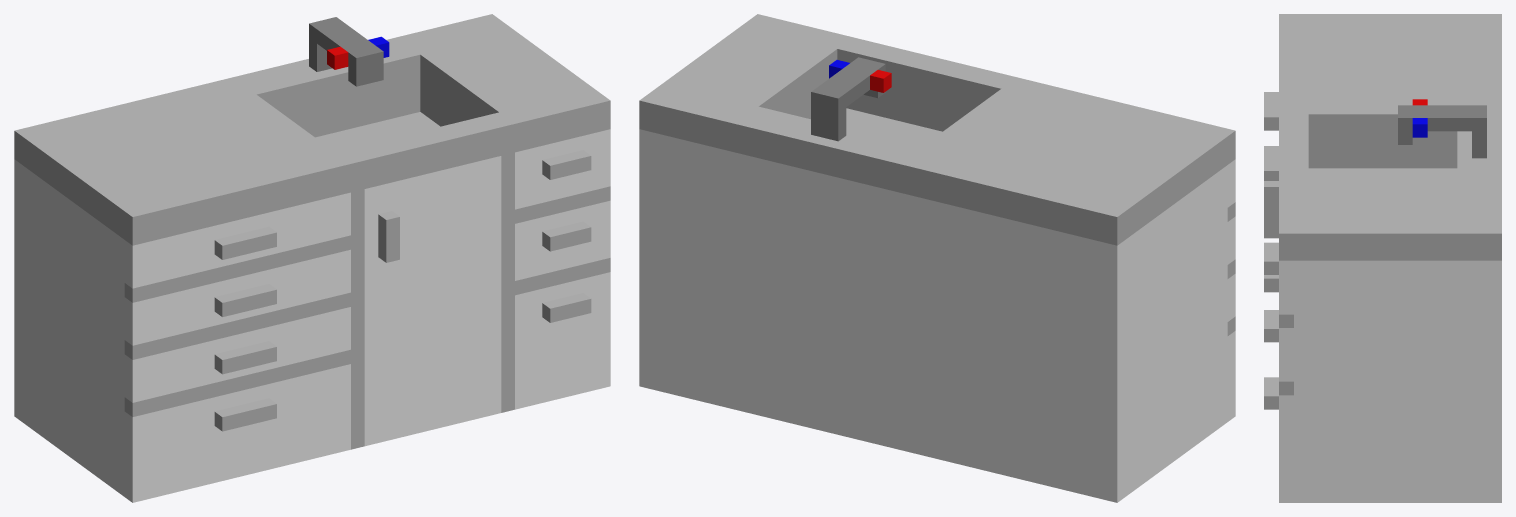
File: counter.obj
3 renders of one model, left to right at view 1: azimuth 30°, elevation 25°; view 2: azimuth 150°, elevation 25°; view 3: azimuth 270°, elevation 25°, orthographic. The views are drawn at different scales.
Bounding box in the file's own units: 3.5 × 2.3 × 1.6.
1 material, 1 textured.
